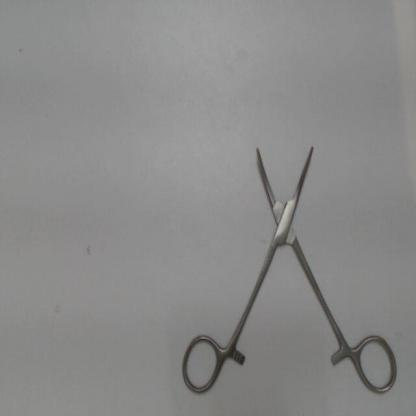Crile Artery Forceps: (176, 132, 404, 404)
